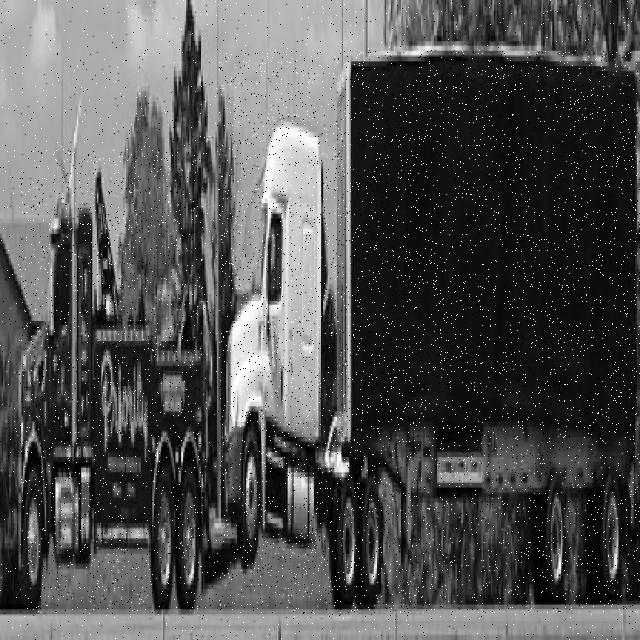Box Truck: (219, 50, 640, 613)
Tow Truck: (20, 149, 203, 613)
